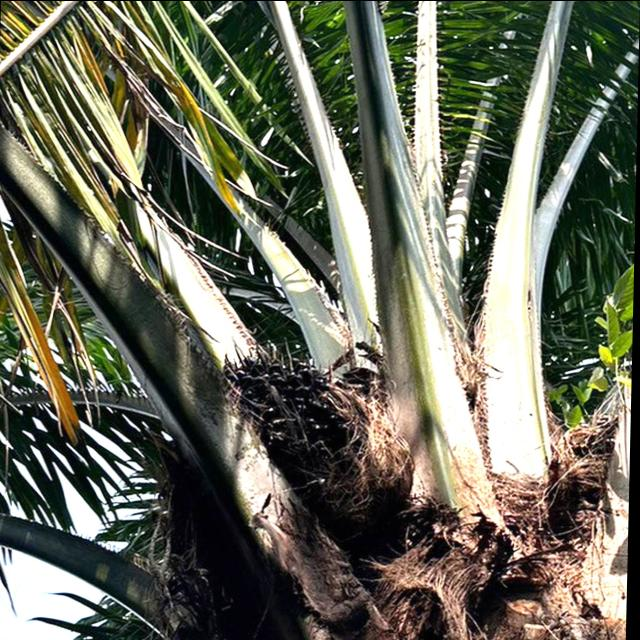almost: (218, 333, 422, 518)
